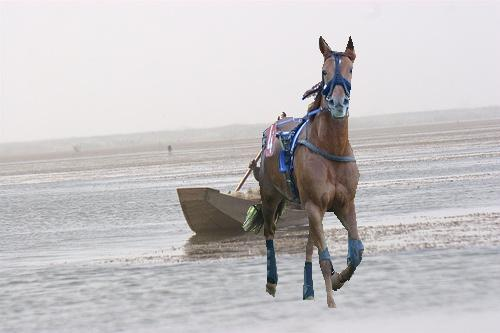tampered: (243, 37, 364, 308)
